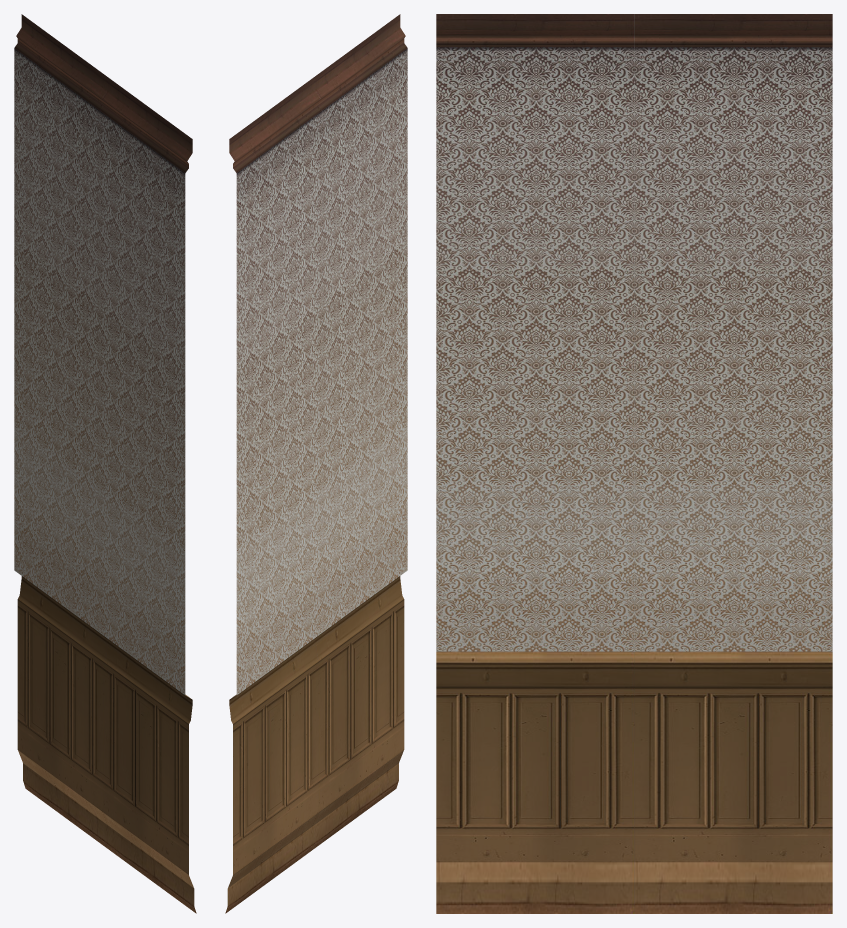
The model's file is 5m_wall.fbx.
The picture shows the model from 3 angles, left to right: view 1: azimuth 30°, elevation 25°; view 2: azimuth 150°, elevation 25°; view 3: azimuth 270°, elevation 25°; orthographic projection. The views are drawn at different scales.
Visible parts, largest first — view 1: wall_5m; view 2: wall_5m; view 3: wall_5m.
Part boxes in pixels (x1=…): wall_5m: x1=14, y1=14, x2=196, y2=913; wall_5m: x1=225, y1=14, x2=407, y2=913; wall_5m: x1=436, y1=14, x2=832, y2=913.
Bounding box in the file's own units: 7.63 × 500 × 200.
Materials: 1 (1 with a texture image).
